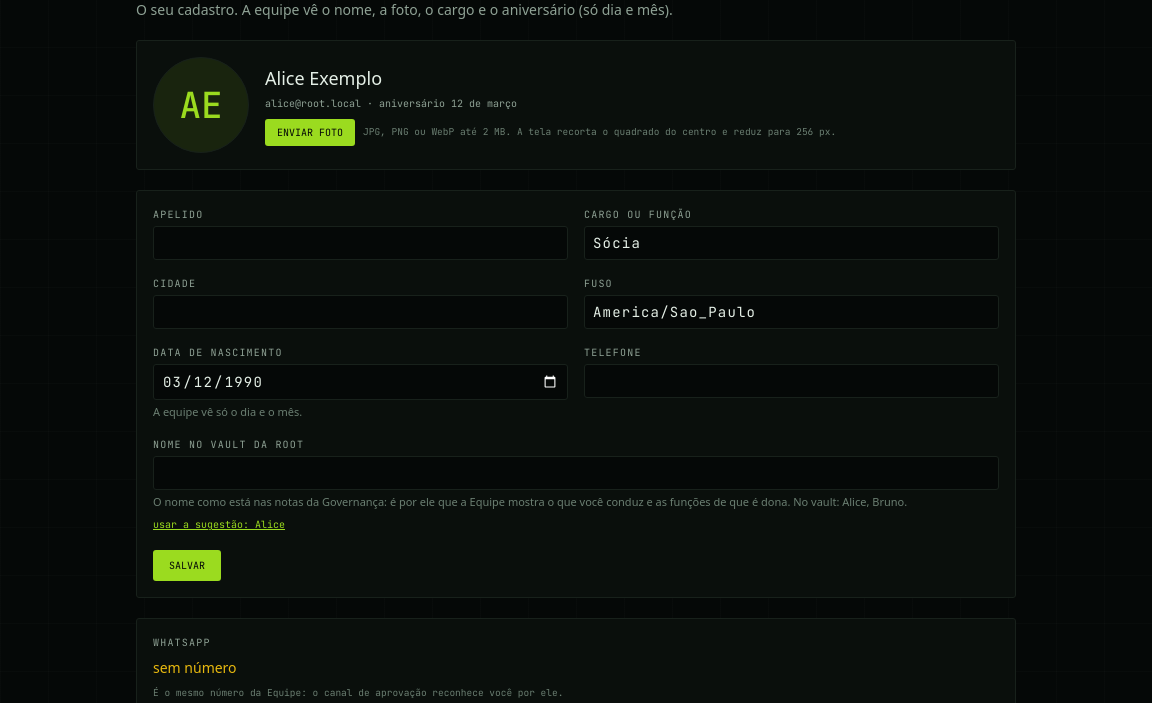
o perfil › salvar manda só o que mudou, com a versão lida
Replace the text in the field labelled "Cargo ou função" with "Sócia fundadora" at (792, 243), box [584,226,999,260]
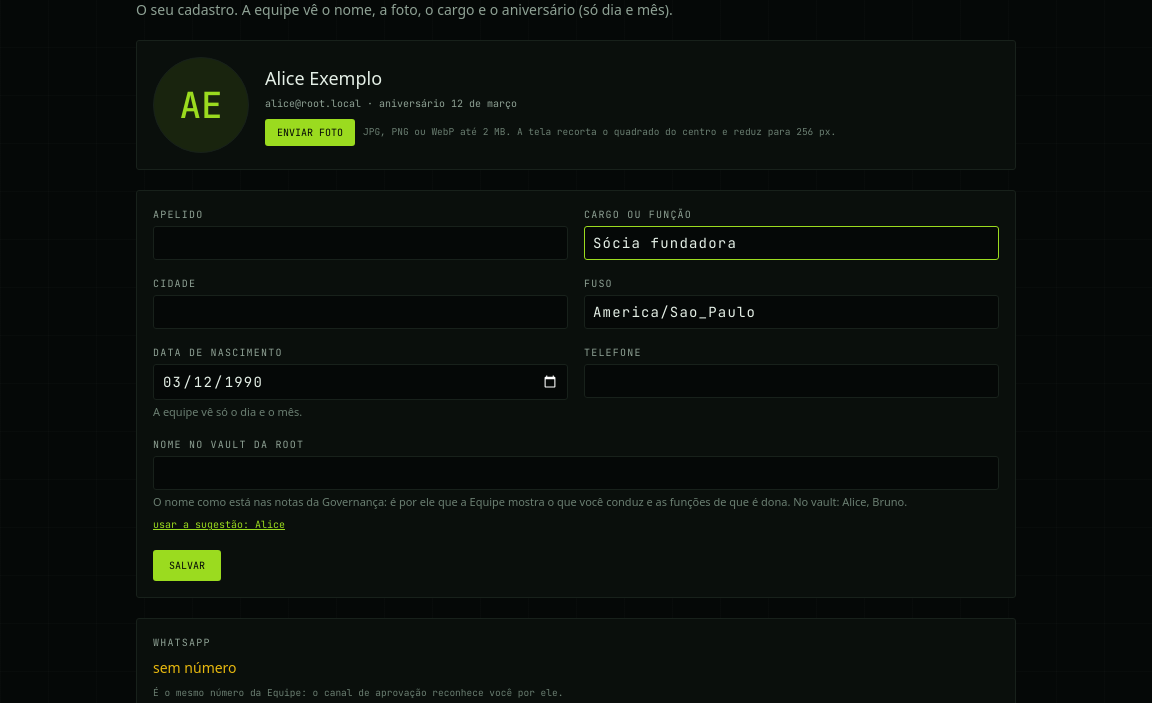
Click the button "salvar" at (187, 566), box [153,550,221,581]
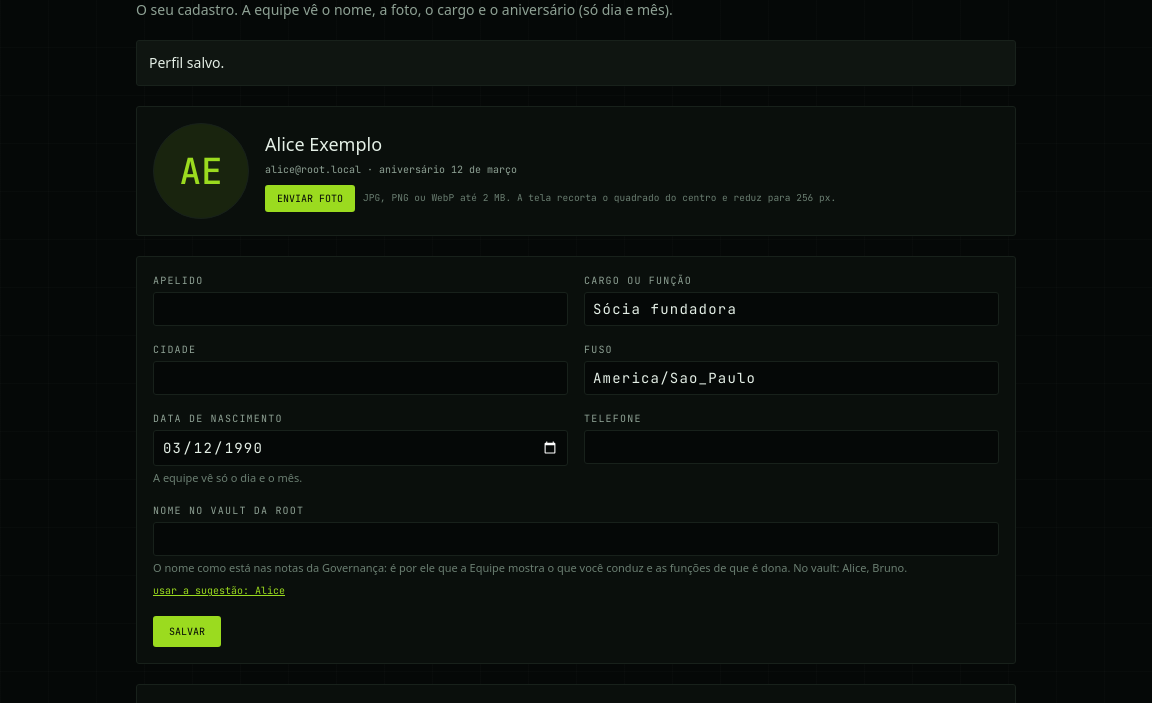
Expected: the message reads "Perfil salvo.", [149,53,224,72]
